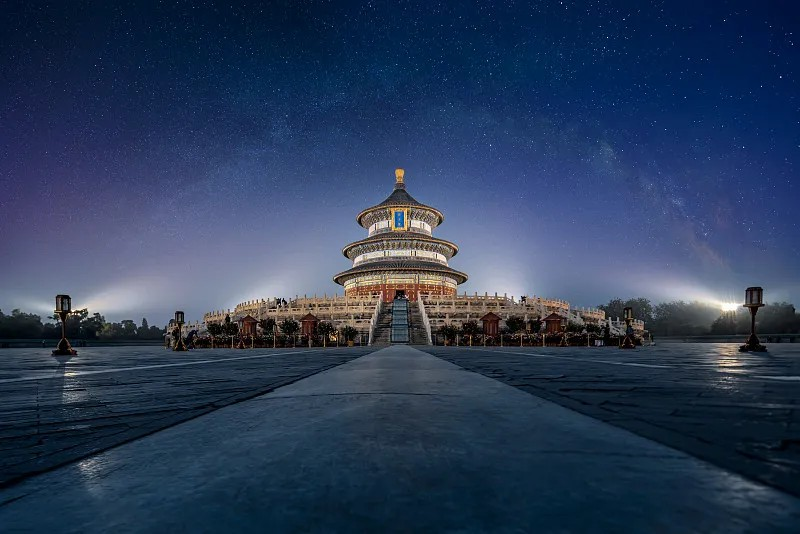Heaven: (332, 169, 468, 299)
